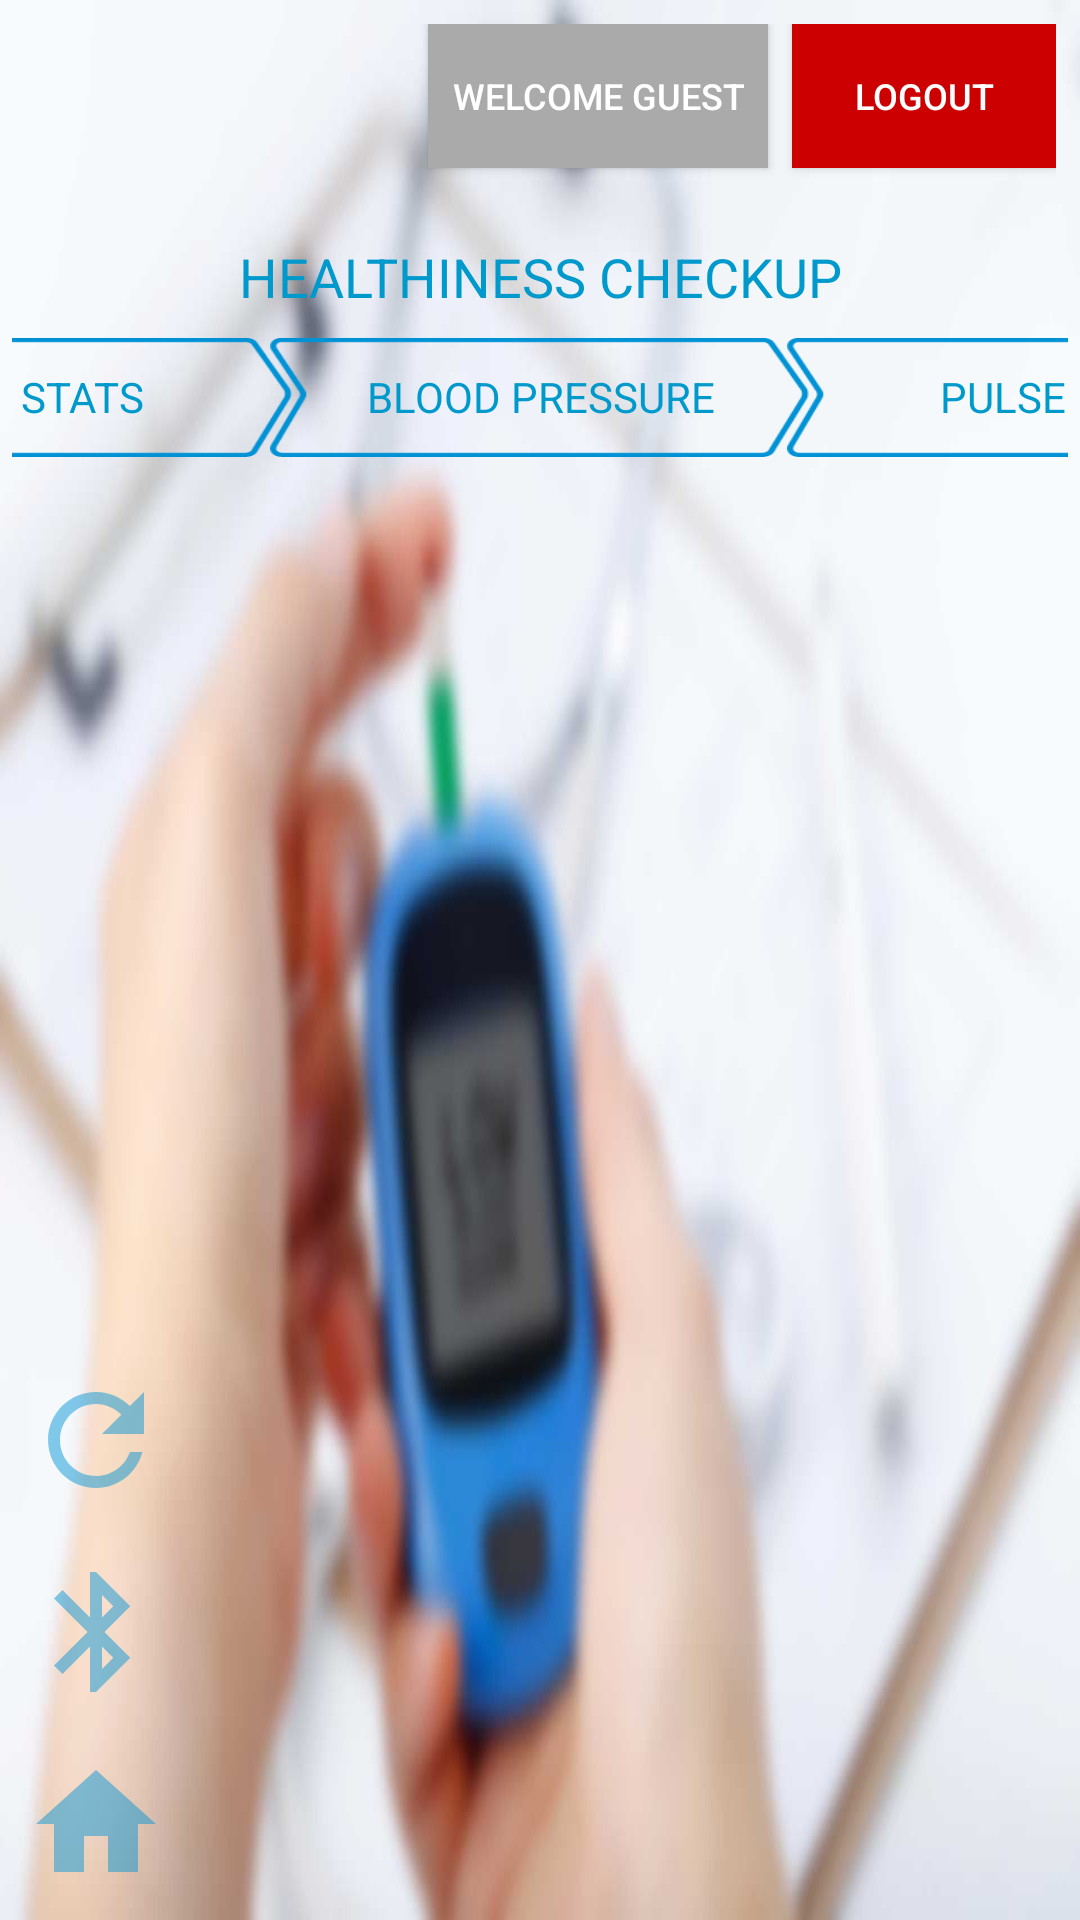

Screen size 1080px x 1920px. Icon name, then its center in pixels as (x=x, y=y):
home: (x=96, y=1824)
refresh: (x=96, y=1440)
